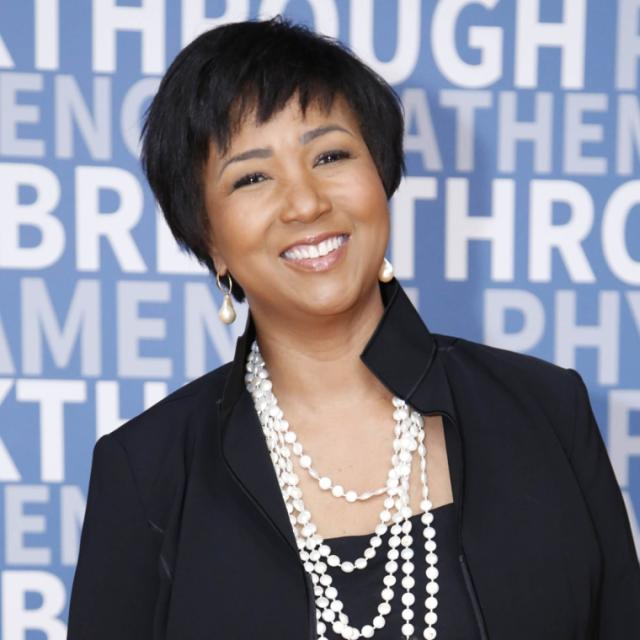sem_oculos: (174, 141, 391, 198)
